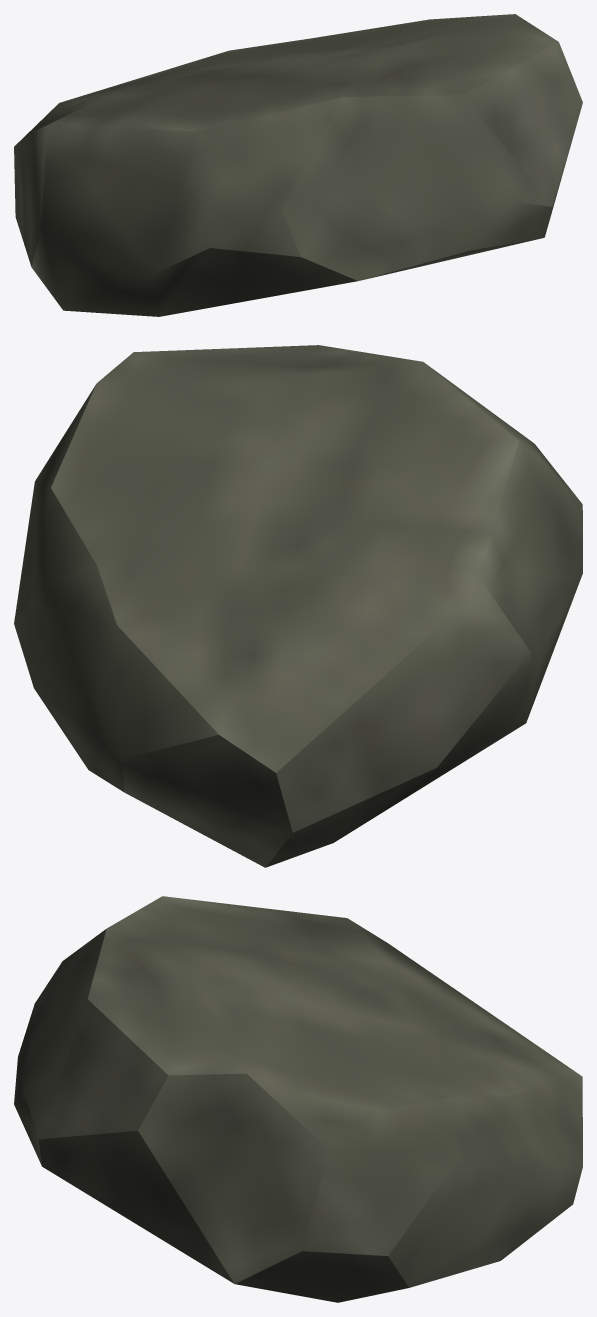
Rendered from Rock_02.fbx.
3 views of the same model, one above another, from view 1: azimuth 30°, elevation 25°; view 2: azimuth 150°, elevation 25°; view 3: azimuth 270°, elevation 25° (orthographic). The views are drawn at different scales.
Visible parts, largest first — view 1: Rock_02; view 2: Rock_02; view 3: Rock_02.
Boxes of the visible parts, x1,y1,x2,y2 form: Rock_02: (14, 14, 582, 316); Rock_02: (14, 345, 582, 867); Rock_02: (14, 896, 582, 1302).
Size of the model in its own units: 152 by 97.41 by 158.
Materials: 1 (1 with a texture image).
